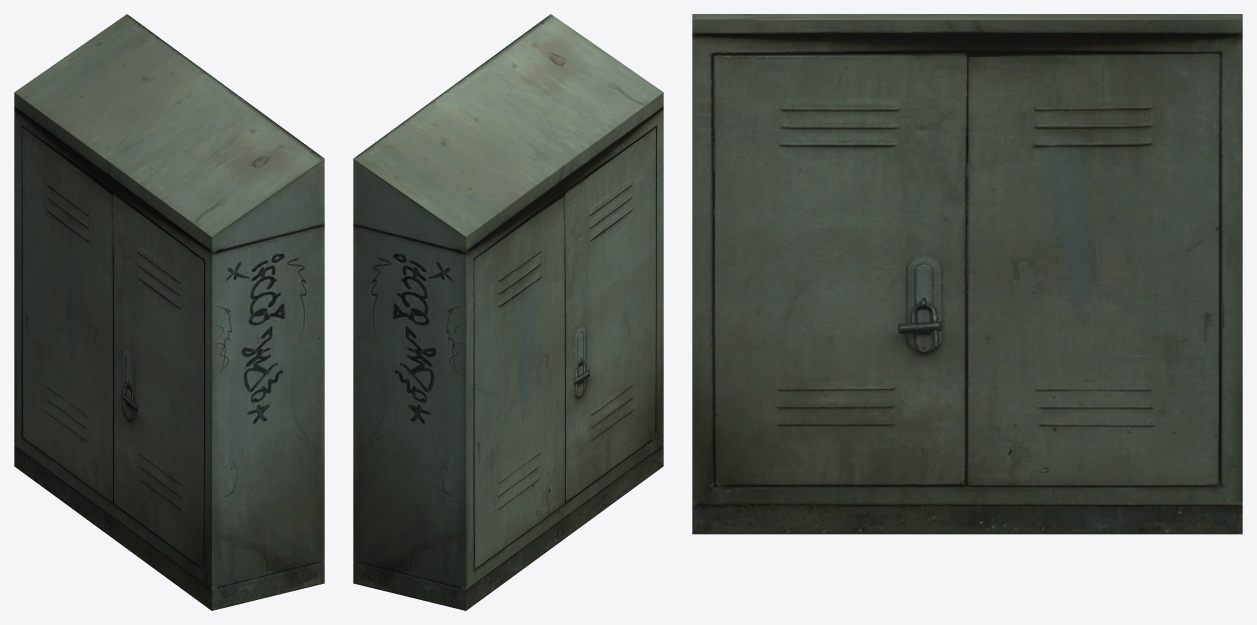
The model's file is Electric_box_v1.glb.
The picture shows the model from 3 angles, left to right: view 1: azimuth 30°, elevation 25°; view 2: azimuth 150°, elevation 25°; view 3: azimuth 270°, elevation 25°; orthographic projection. The views are drawn at different scales.
Parts seen in each view (by area): view 1: Electric_box_v1; view 2: Electric_box_v1; view 3: Electric_box_v1.
Part boxes in pixels (<box>): Electric_box_v1: <box>14,14,324,610</box>; Electric_box_v1: <box>353,14,663,610</box>; Electric_box_v1: <box>692,14,1242,534</box>.
Bounding box in the file's own units: 0.3996 × 1.44 × 1.21.
Materials: 1 (1 with a texture image).
